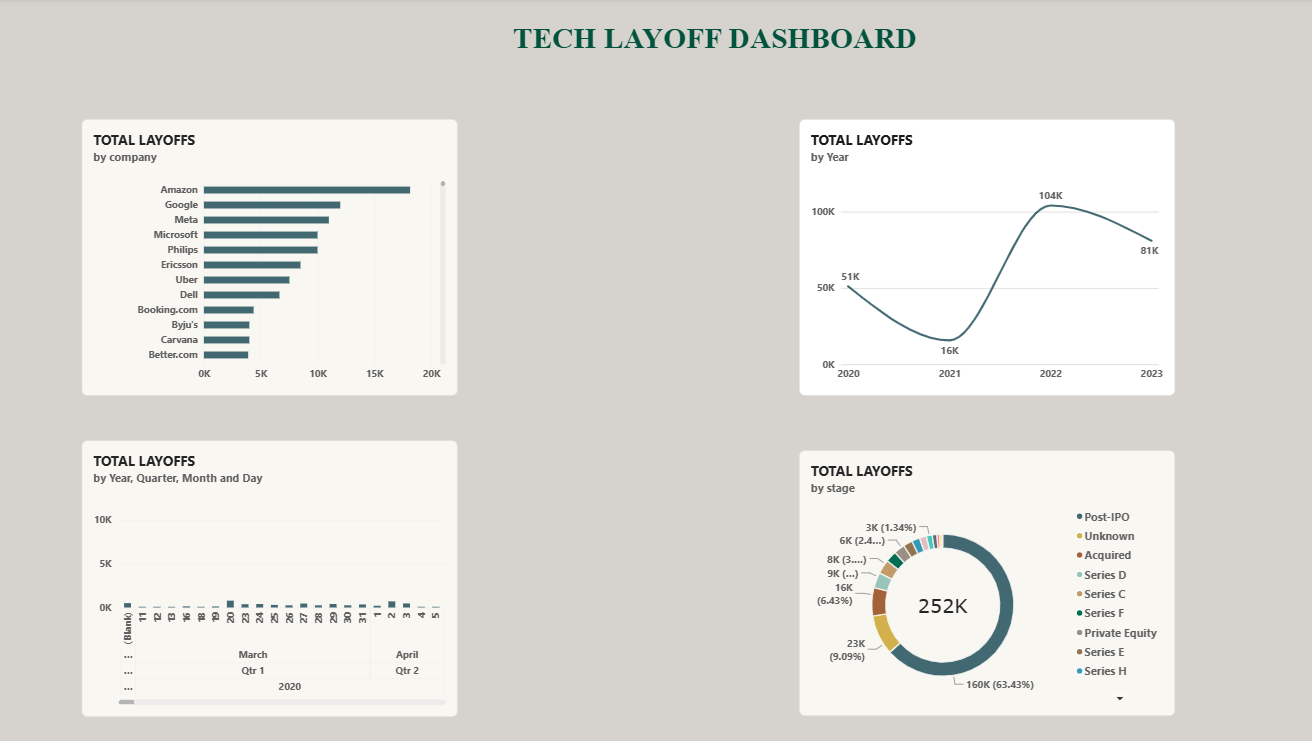

What the dashboard file says about the page in this screenshot:
{"tool":"powerbi","page":{"name":"Page 1","canvas":[1920,1080],"ordinal":0},"visuals":[{"type":"clusteredBarChart","fields":{"Category":["Layoffs_cleaned.company"],"Y":["Layoffs_cleaned.TOTAL LAYOFFS"]},"box":[128,176,544,400],"z":0},{"type":"lineChart","fields":{"Category":["Layoffs_cleaned.date.Variation.Date Hierarchy.Year","Layoffs_cleaned.date.Variation.Date Hierarchy.Quarter","Layoffs_cleaned.date.Variation.Date Hierarchy.Month","Layoffs_cleaned.date.Variation.Date Hierarchy.Day"],"Y":["Layoffs_cleaned.TOTAL LAYOFFS"]},"box":[1168,176,544,400],"z":1000},{"type":"clusteredColumnChart","fields":{"Category":["Layoffs_cleaned.date.Variation.Date Hierarchy.Year","Layoffs_cleaned.date.Variation.Date Hierarchy.Quarter","Layoffs_cleaned.date.Variation.Date Hierarchy.Month","Layoffs_cleaned.date.Variation.Date Hierarchy.Day"],"Y":["Layoffs_cleaned.TOTAL LAYOFFS"]},"box":[128,640,544,400],"z":2000},{"type":"donutChart","fields":{"Category":["Layoffs_cleaned.stage"],"Y":["Layoffs_cleaned.TOTAL LAYOFFS"]},"box":[1168,656,544,384],"z":3000},{"type":"textbox","box":[752,32,656,96],"z":4000}]}

Visuals, with their boxes in screenshot pixels (x1, y1, x2, y2), scaled from the page's 1920x1080 canvas onto the 1312x741 screenshot:
clusteredBarChart - Layoffs_cleaned.company x Layoffs_cleaned.TOTAL LAYOFFS: bbox(87, 121, 459, 395)
lineChart - Layoffs_cleaned.date.Variation.Date Hierarchy.Year x Layoffs_cleaned.date.Variation.Date Hierarchy.Quarter: bbox(798, 121, 1170, 395)
clusteredColumnChart - Layoffs_cleaned.date.Variation.Date Hierarchy.Year x Layoffs_cleaned.date.Variation.Date Hierarchy.Quarter: bbox(87, 439, 459, 714)
donutChart - Layoffs_cleaned.stage x Layoffs_cleaned.TOTAL LAYOFFS: bbox(798, 450, 1170, 714)
textbox: bbox(514, 22, 962, 88)
